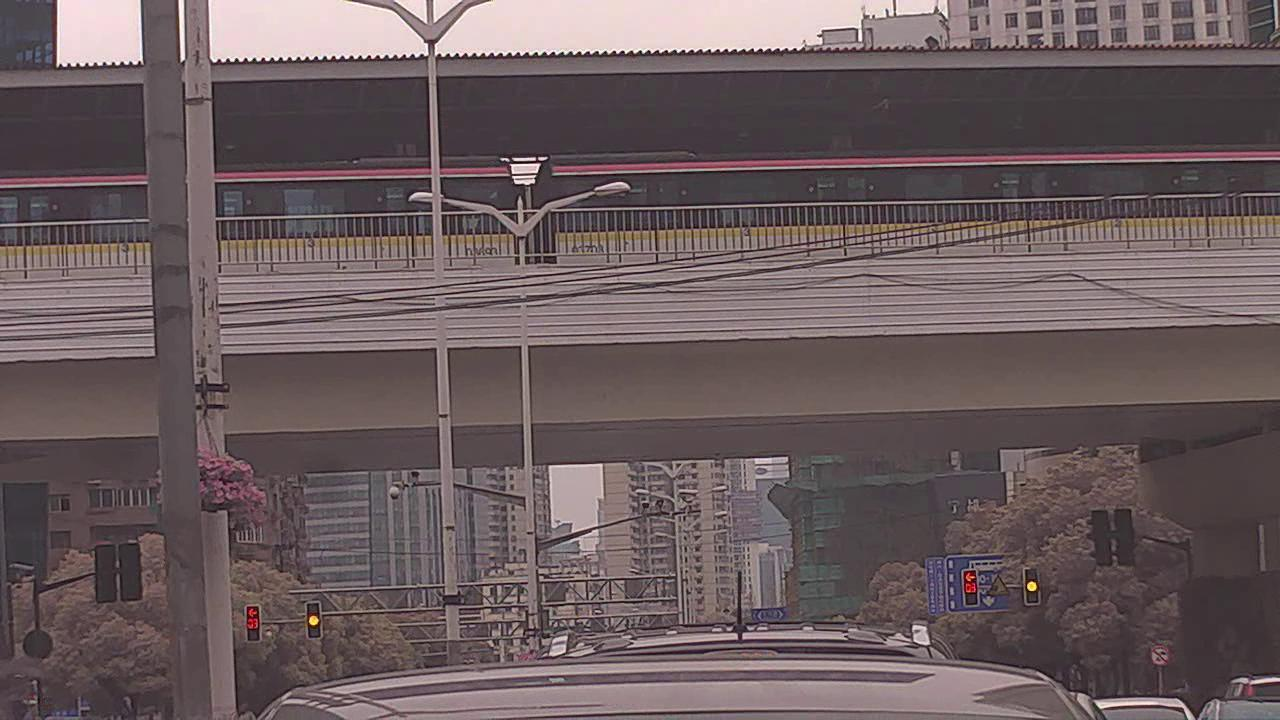traffic_light: (243, 605, 262, 641), (1022, 570, 1041, 604), (305, 602, 321, 637), (965, 570, 978, 603)
